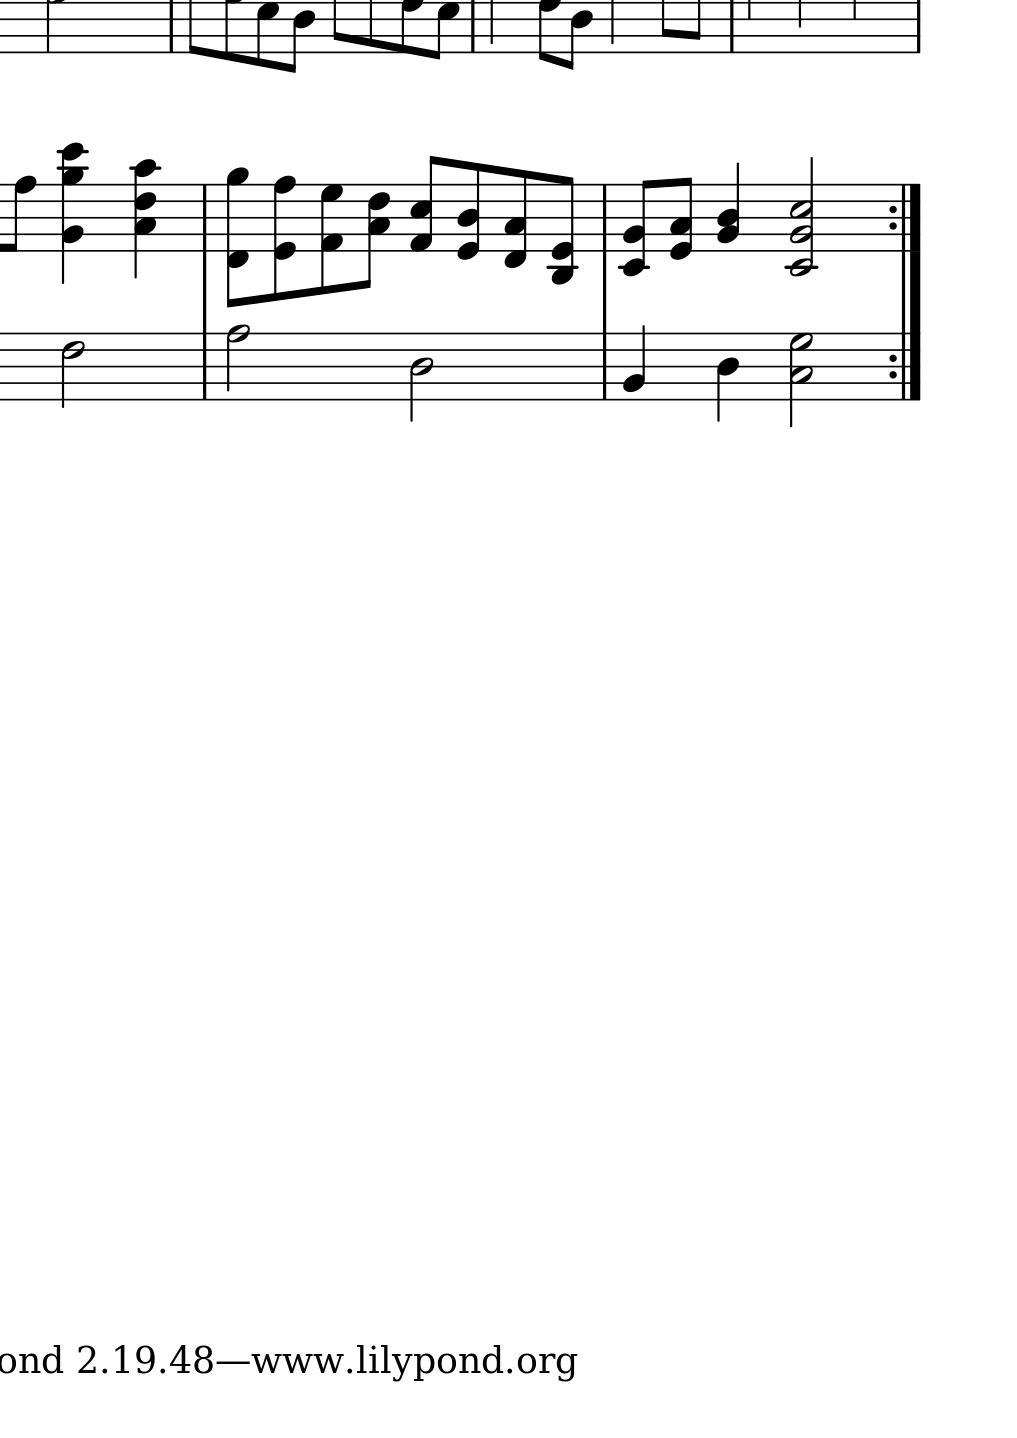2_3_7: (787, 331, 814, 427)
2_4: (408, 332, 434, 421)
2_6: (59, 331, 84, 407)
2_8: (225, 322, 249, 403)
2_th: (787, 156, 819, 281)
4_2: (621, 323, 648, 402)
4_2_4: (717, 162, 741, 255)
4_4: (714, 331, 740, 422)
4_th: (56, 142, 89, 286), (129, 157, 165, 279)
8_-1_3: (504, 167, 529, 271)
8_-1_9: (226, 167, 251, 309)
8_-2_2: (619, 178, 654, 277)
8_-3_0: (547, 172, 580, 286)
8_0_3: (668, 177, 695, 260)
8_0_4: (455, 160, 482, 262)
8_0_8: (272, 174, 296, 301)
8_1_5: (409, 155, 445, 252)
8_1_7: (320, 182, 342, 296)
8_3_6: (360, 183, 391, 290)
8_8: (2, 174, 36, 255)
RightRepeatSign: (885, 183, 925, 252), (885, 332, 923, 400)
Single_barline: (196, 185, 214, 251), (595, 184, 612, 251), (197, 333, 214, 400), (597, 333, 612, 400)
